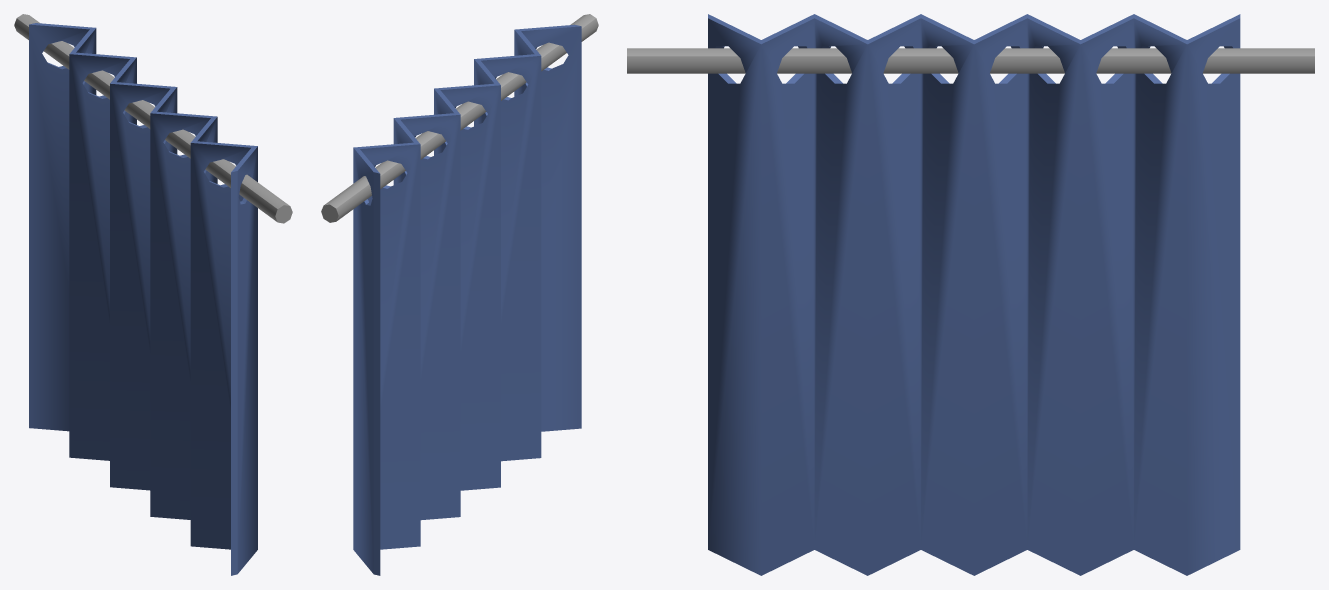
The model's file is curtain.fbx.
3 renders of one model, left to right at view 1: azimuth 30°, elevation 25°; view 2: azimuth 150°, elevation 25°; view 3: azimuth 270°, elevation 25°, orthographic. The views are drawn at different scales.
Parts seen in each view (by area): view 1: curtain, curtainRail; view 2: curtain, curtainRail; view 3: curtain, curtainRail.
Part boxes in pixels (x1,y1,x2,y2): curtain: [29, 23, 257, 575]; curtainRail: [14, 14, 292, 223]; curtain: [353, 24, 581, 575]; curtainRail: [321, 14, 598, 222]; curtain: [708, 14, 1240, 575]; curtainRail: [627, 48, 1314, 73].
Bounding box in the file's own units: 26.09 × 213 × 250.
